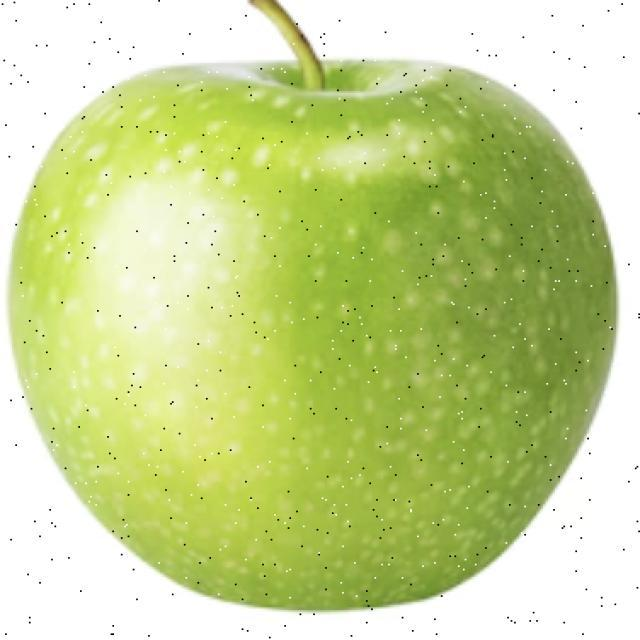Fresh Apple: (9, 51, 623, 610)
